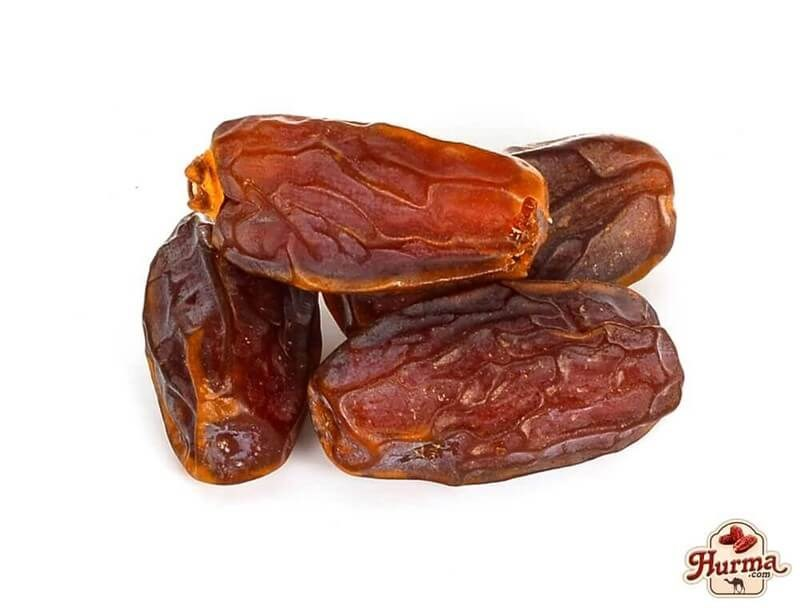hurmaa: (294, 280, 695, 493), (181, 103, 555, 299), (126, 191, 341, 500)
